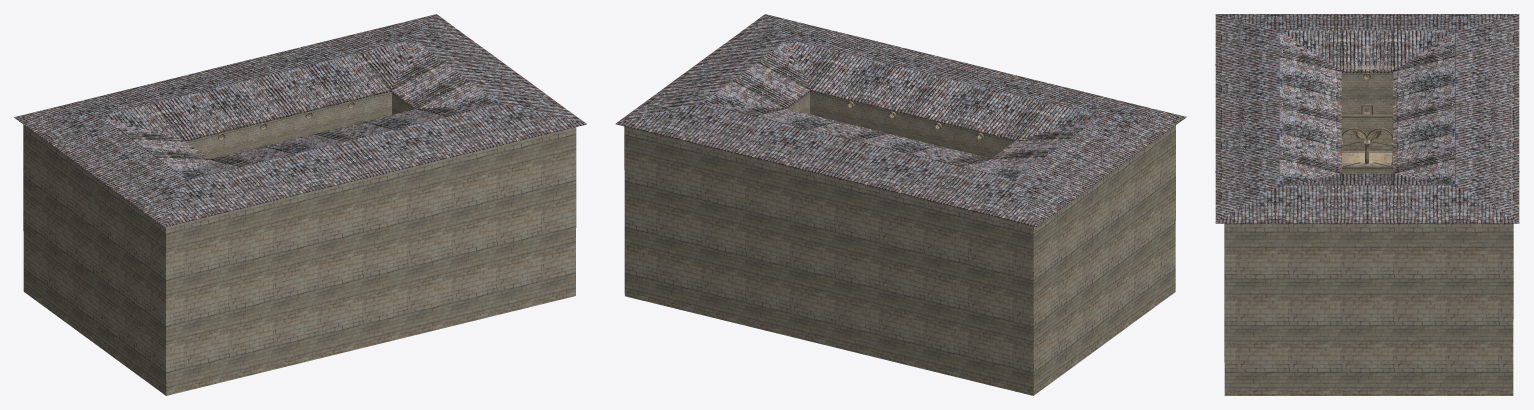
The model's file is Sponza.fbx.
The picture shows the model from 3 angles, left to right: view 1: azimuth 30°, elevation 25°; view 2: azimuth 150°, elevation 25°; view 3: azimuth 270°, elevation 25°; orthographic projection.
Visible parts, largest first — view 1: sponza:sponza_379, sponza:sponza_380, sponza:sponza_381, sponza:sponza_36; view 2: sponza:sponza_379, sponza:sponza_380, sponza:sponza_381, sponza:sponza_36; view 3: sponza:sponza_379, sponza:sponza_380, sponza:sponza_381, sponza:sponza_36, sponza:sponza_68, sponza:sponza_34, sponza:sponza_18, sponza:sponza_06, sponza:sponza_07.
Boxes of the visible parts, left/top/right/bottom form: sponza:sponza_379: left=23, top=124, right=576, bottom=395; sponza:sponza_380: left=14, top=14, right=586, bottom=227; sponza:sponza_381: left=101, top=40, right=499, bottom=179; sponza:sponza_36: left=186, top=91, right=415, bottom=158; sponza:sponza_379: left=624, top=125, right=1175, bottom=395; sponza:sponza_380: left=615, top=14, right=1186, bottom=226; sponza:sponza_381: left=702, top=40, right=1099, bottom=179; sponza:sponza_36: left=787, top=91, right=1015, bottom=158; sponza:sponza_379: left=1224, top=17, right=1513, bottom=395; sponza:sponza_380: left=1215, top=14, right=1519, bottom=223; sponza:sponza_381: left=1279, top=30, right=1455, bottom=185; sponza:sponza_36: left=1341, top=72, right=1392, bottom=114; sponza:sponza_68: left=1341, top=130, right=1392, bottom=151; sponza:sponza_34: left=1342, top=117, right=1392, bottom=134; sponza:sponza_18: left=1341, top=152, right=1392, bottom=162; sponza:sponza_06: left=1342, top=168, right=1392, bottom=174; sponza:sponza_07: left=1342, top=163, right=1392, bottom=168.
Bounding box in the file's own units: 3721 × 1556 × 2288.
Materials: 24 (24 with a texture image).
